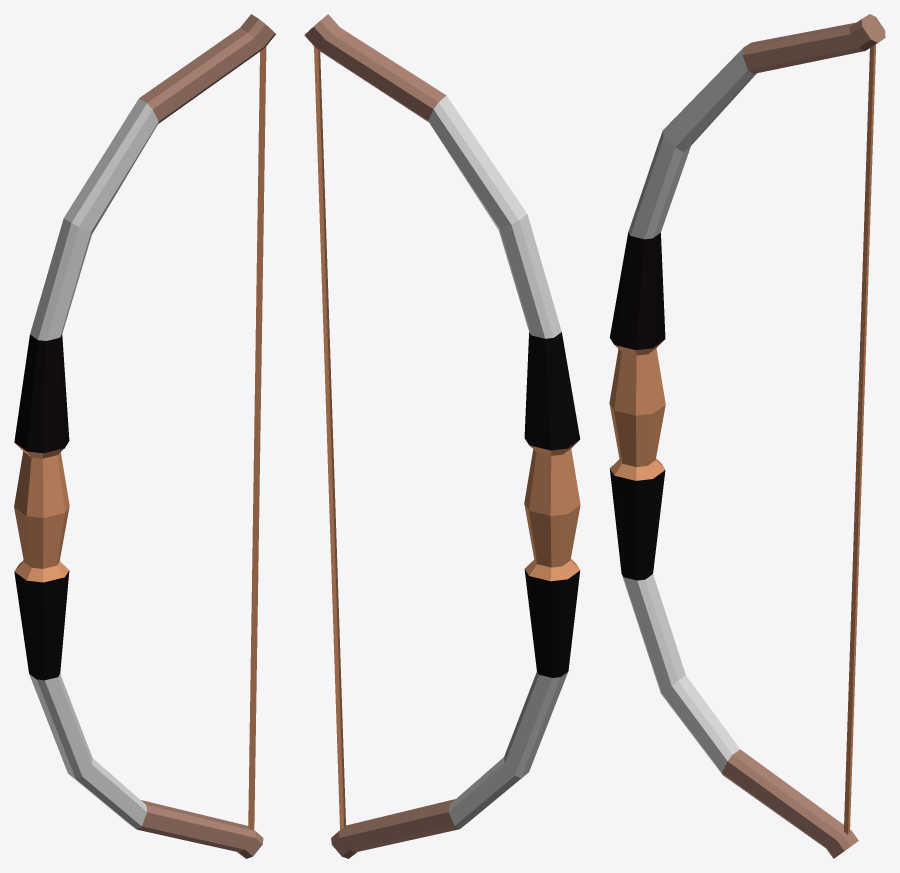
Rendered from Bow simple.fbx.
3 views of the same model, side by side, from view 1: azimuth 30°, elevation 25°; view 2: azimuth 150°, elevation 25°; view 3: azimuth 330°, elevation 25° (orthographic).
Visible parts, largest first — view 1: Cube; view 2: Cube; view 3: Cube.
Part boxes in pixels (bbox=[...]): Cube: bbox=[14, 14, 275, 858]; Cube: bbox=[304, 14, 580, 858]; Cube: bbox=[609, 14, 885, 858].
Bounding box in the file's own units: 1204 × 3711 × 206.
